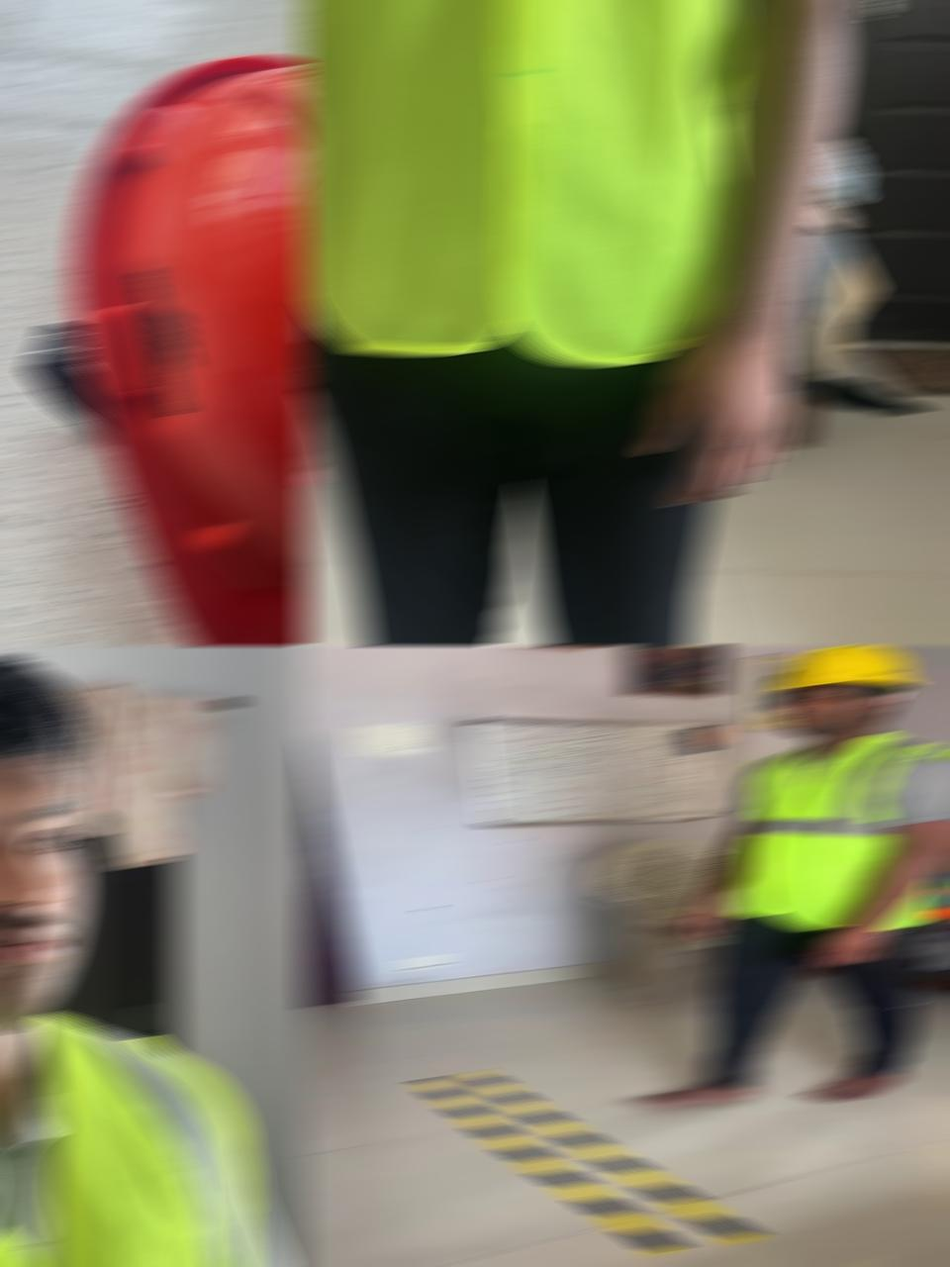BorderLine: (406, 1070, 766, 1254)
Helmet: (55, 48, 310, 645), (763, 646, 920, 691)
No_Helmet: (0, 645, 91, 1042)
Person: (298, 0, 892, 645), (0, 645, 310, 1266), (621, 646, 950, 1107)
Vest: (298, 0, 803, 367), (0, 999, 260, 1266), (722, 731, 950, 927)
